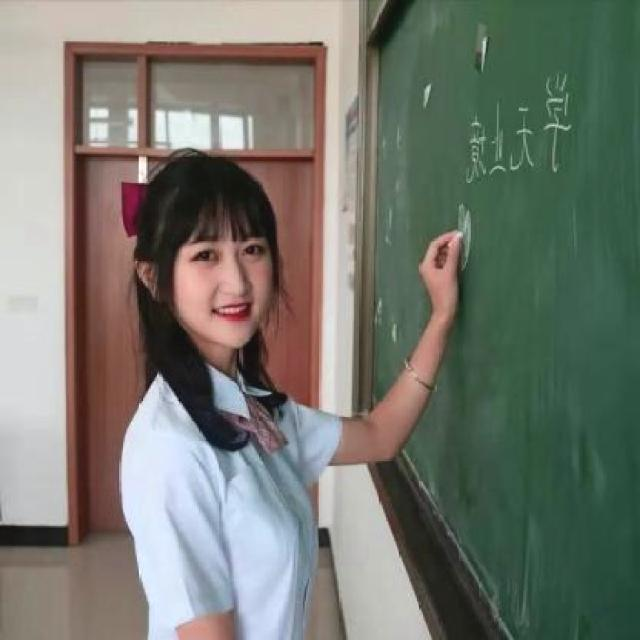face_nomask: (163, 230, 288, 344)
hand_noglove: (419, 228, 466, 328)
head_nohelmet: (132, 152, 291, 237)
person: (117, 149, 495, 640)
